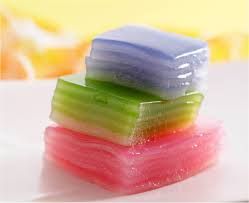kanomchan: (34, 112, 236, 199), (41, 65, 220, 147), (78, 18, 221, 101)
